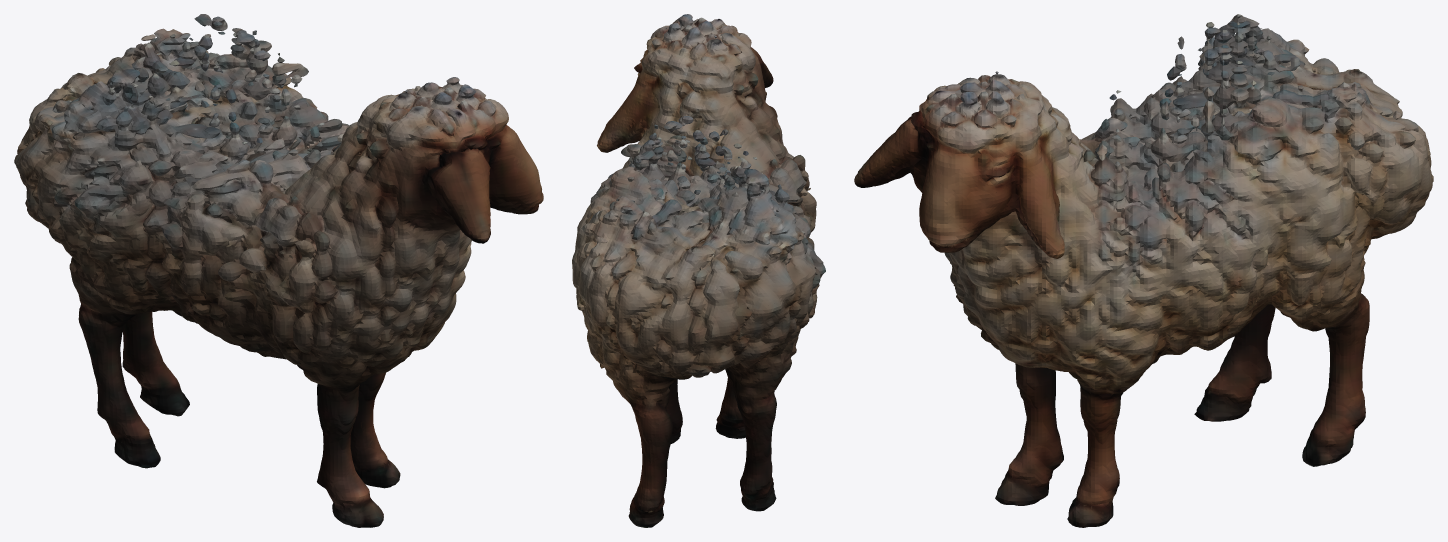
File: CHR_Sheep.glb
The picture shows the model from 3 angles, left to right: view 1: azimuth 30°, elevation 25°; view 2: azimuth 150°, elevation 25°; view 3: azimuth 270°, elevation 25°; orthographic projection. The views are drawn at different scales.
Visible parts, largest first — view 1: geometry_0; view 2: geometry_0; view 3: geometry_0.
Part boxes in pixels (bbox=[...]): geometry_0: bbox=[14, 14, 543, 527]; geometry_0: bbox=[572, 14, 825, 527]; geometry_0: bbox=[854, 14, 1433, 527].
Size of the model in its own units: 0.7477 by 0.8961 by 1.05.
1 material, 1 textured.
